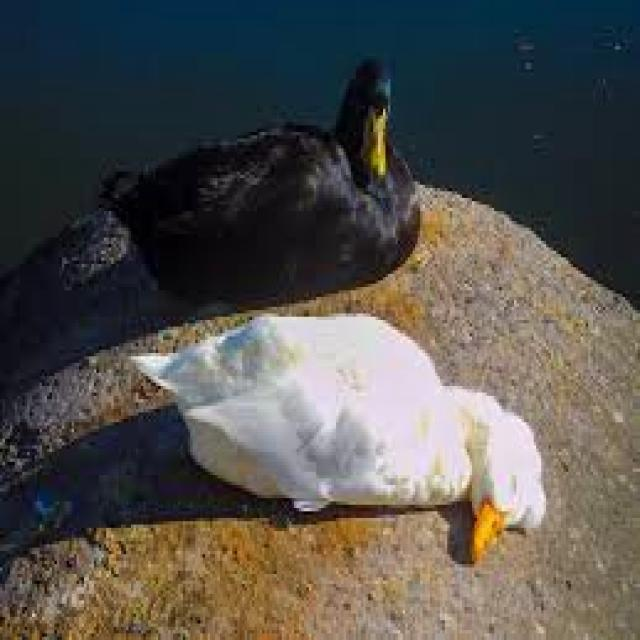duck: (131, 313, 541, 558), (104, 59, 418, 304)
